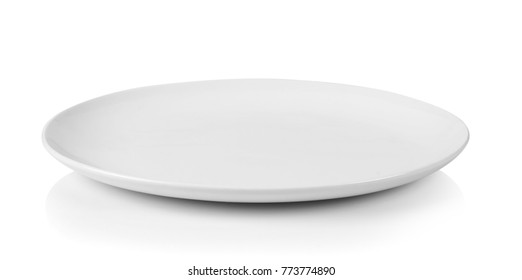plate: (41, 75, 480, 210)
